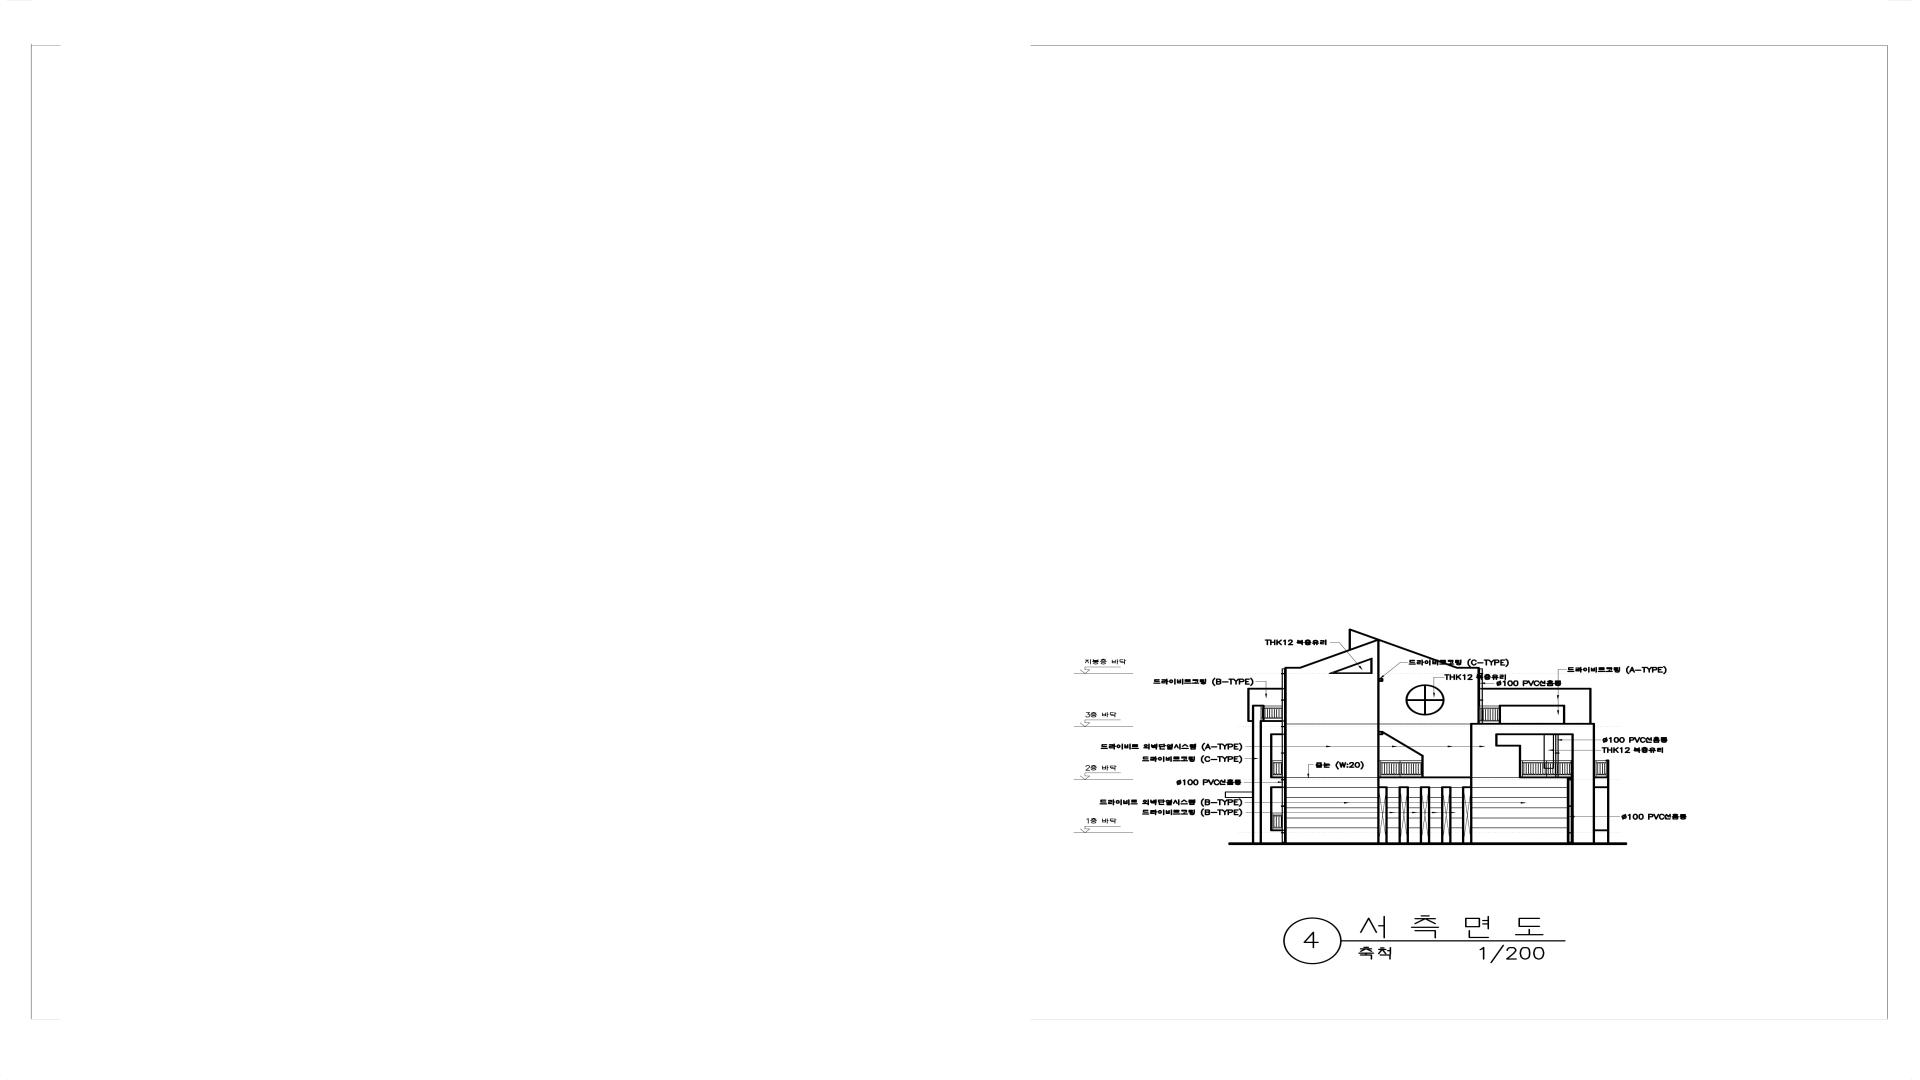wall: (1248, 628, 1609, 845)
window: (1495, 733, 1574, 778), (1377, 731, 1423, 778), (1406, 684, 1444, 715), (1593, 786, 1609, 832), (1328, 658, 1373, 674), (1377, 786, 1388, 845), (1398, 786, 1409, 845), (1270, 733, 1283, 779), (1270, 786, 1283, 832), (1441, 786, 1451, 845), (1462, 786, 1472, 845), (1420, 787, 1430, 845)
